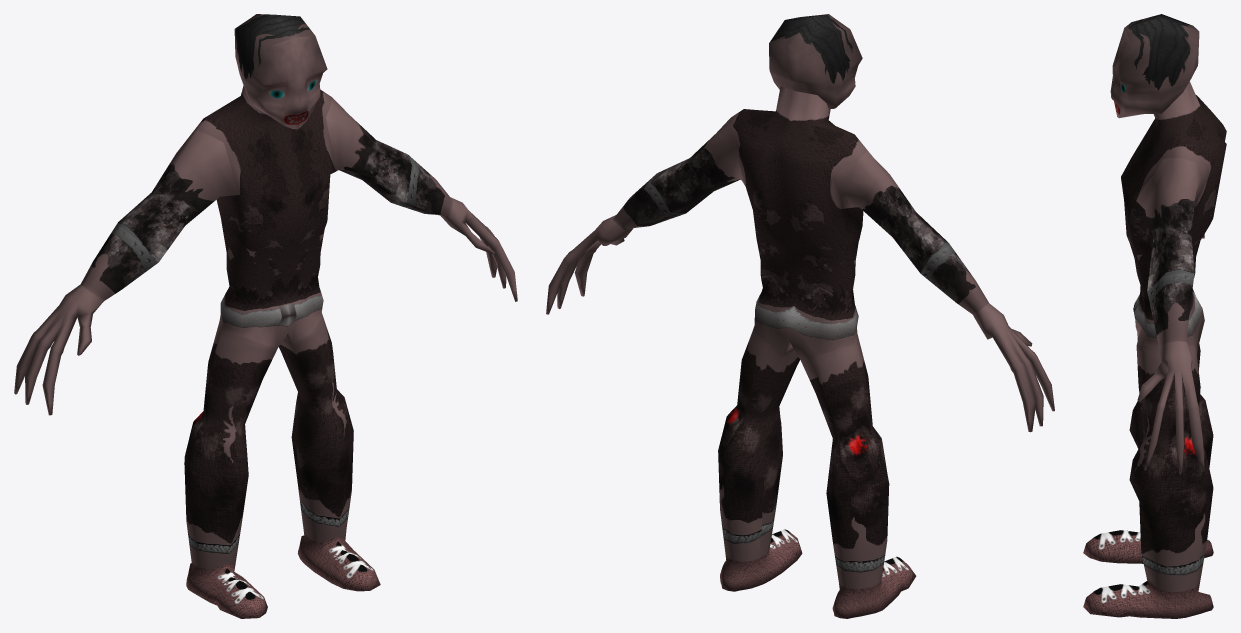
The model's file is creep.gltf.
3 renders of one model, left to right at view 1: azimuth 30°, elevation 25°; view 2: azimuth 150°, elevation 25°; view 3: azimuth 270°, elevation 25°, orthographic.
Visible parts, largest first — view 1: Creep; view 2: Creep; view 3: Creep.
Boxes of the visible parts, x1,y1,x2,y2 form: Creep: (14, 14, 517, 618); Creep: (546, 14, 1054, 618); Creep: (1083, 14, 1226, 618).
Size of the model in its own units: 9.48 by 10.58 by 2.45.
